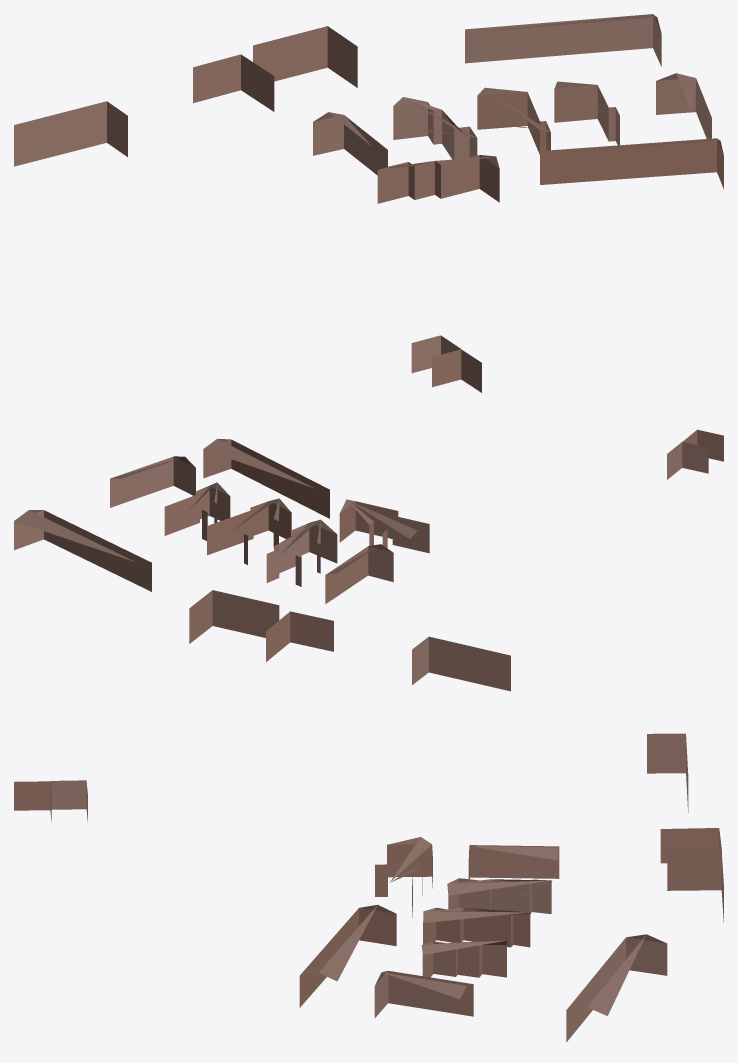
The model's file is c_1634_17832_buildings_residential.glb.
3 views of the same model, one above another, from view 1: azimuth 30°, elevation 25°; view 2: azimuth 150°, elevation 25°; view 3: azimuth 270°, elevation 25° (orthographic). The views are drawn at different scales.
Parts seen in each view (by area): view 1: geometry_0; view 2: geometry_0; view 3: geometry_0.
Boxes of the visible parts, bbox=[...] form: geometry_0: bbox=[14, 14, 723, 392]; geometry_0: bbox=[14, 429, 723, 691]; geometry_0: bbox=[14, 733, 723, 1042].
Bounding box in the file's own units: 165 × 11.88 × 178.
